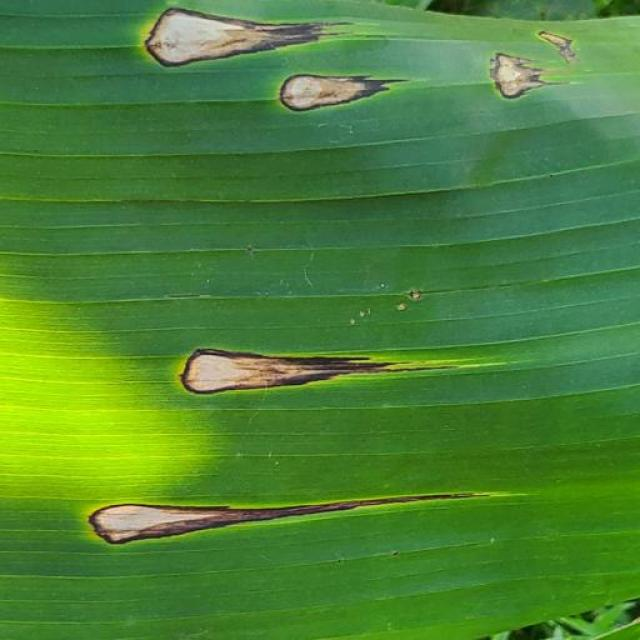Early_rust: (137, 0, 618, 176), (70, 465, 521, 565), (131, 293, 490, 418)
